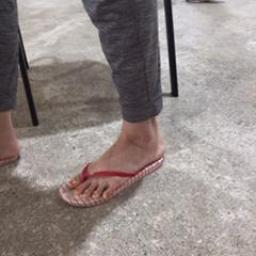Lateral View -Left Foot-: (53, 116, 173, 208)
